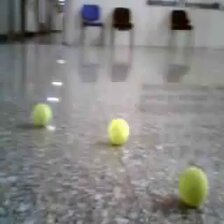tennis: (178, 166, 207, 205), (108, 117, 129, 144), (33, 103, 51, 124)
